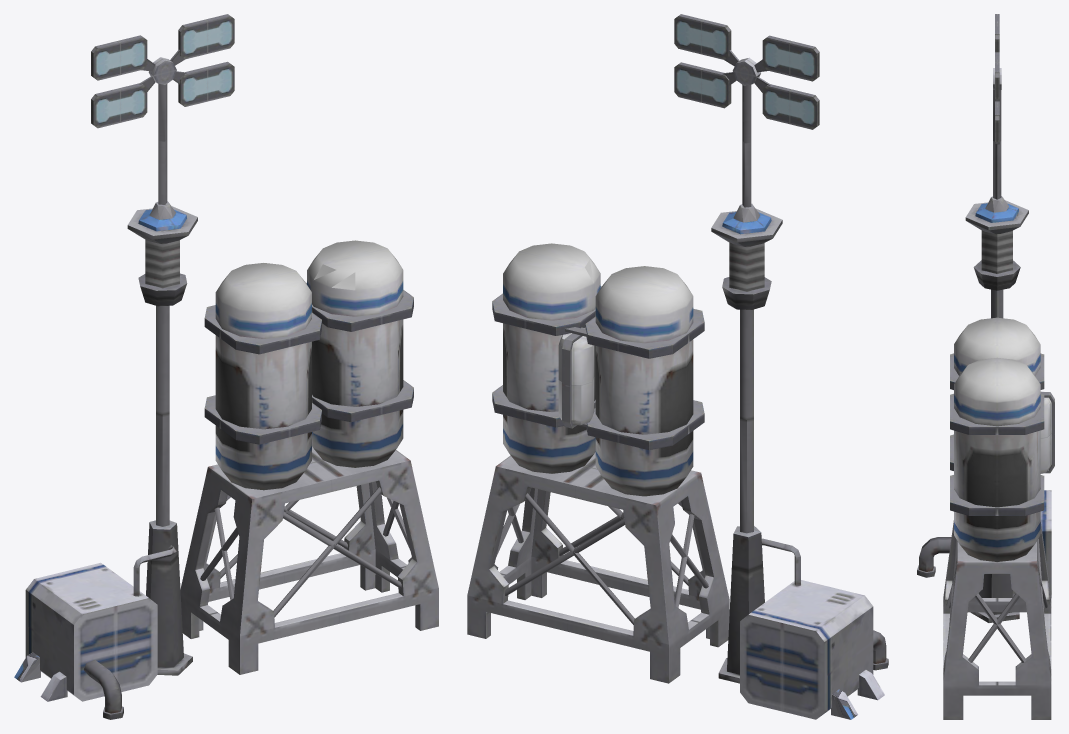
Rendered from Demo_deng02.FBX.
3 renders of one model, left to right at view 1: azimuth 30°, elevation 25°; view 2: azimuth 150°, elevation 25°; view 3: azimuth 270°, elevation 25°, orthographic. The views are drawn at different scales.
Visible parts, largest first — view 1: Demo_deng02; view 2: Demo_deng02; view 3: Demo_deng02.
Boxes of the visible parts, x1,y1,x2,y2 form: Demo_deng02: (14, 14, 438, 719); Demo_deng02: (467, 14, 888, 719); Demo_deng02: (917, 14, 1054, 719).
Bounding box in the file's own units: 10.23 × 16.66 × 3.66.
